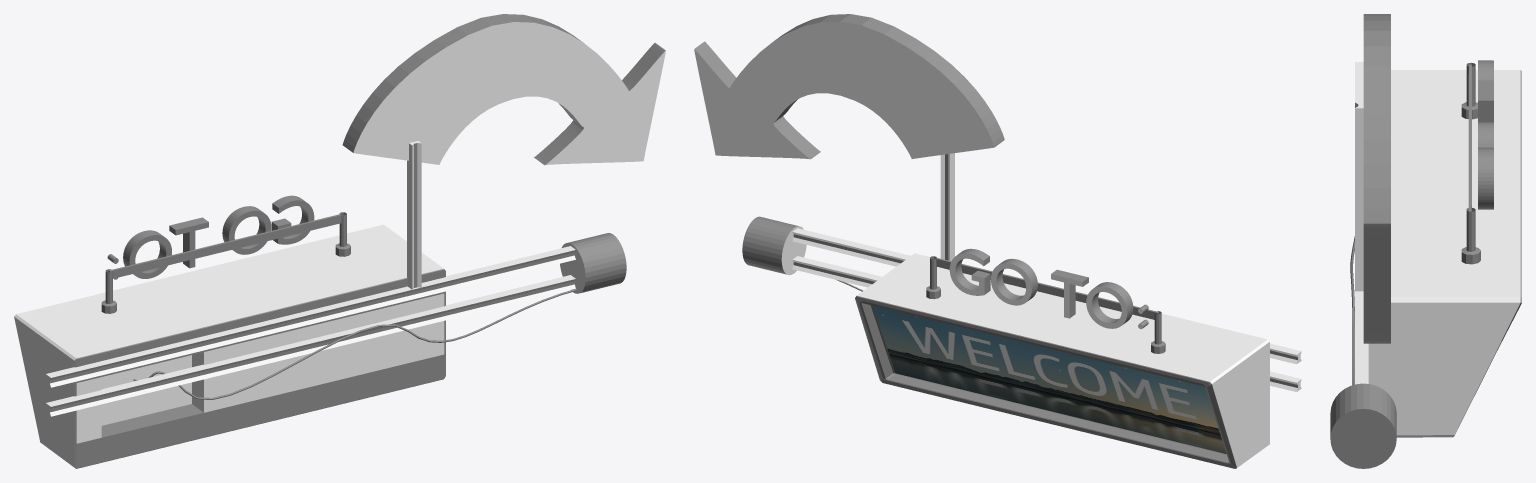
Rendered from Portal-Sign-Return2.fbx.
3 views of the same model, side by side, from view 1: azimuth 30°, elevation 25°; view 2: azimuth 150°, elevation 25°; view 3: azimuth 270°, elevation 25° (orthographic). The views are drawn at different scales.
Parts seen in each view (by area): view 1: Text.001; view 2: Text.001; view 3: Text.001.
Boxes of the visible parts, x1,y1,x2,y2 form: Text.001: (14,14,665,468); Text.001: (694,14,1301,468); Text.001: (1330,14,1521,468).
Bounding box in the file's own units: 322 × 171 × 68.06.
3 materials, 1 textured.
